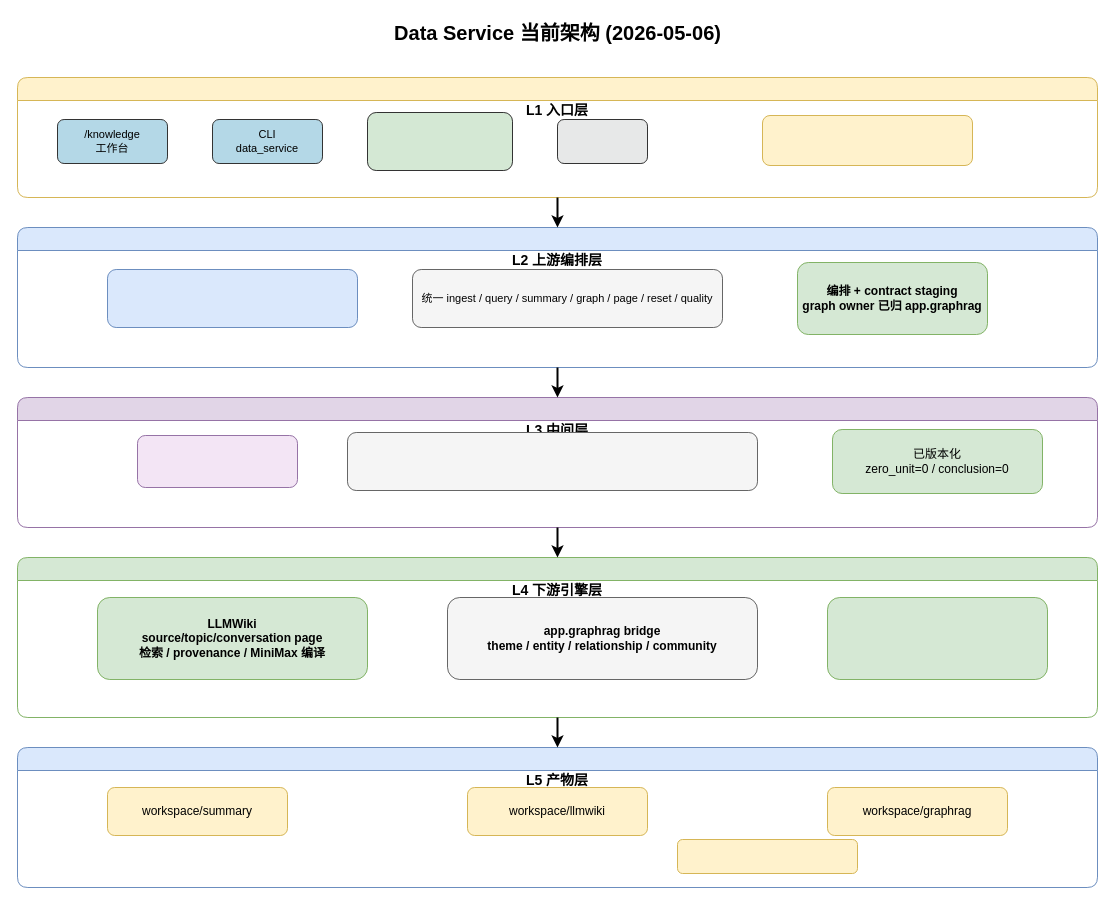
Some shapes in this 1115 by 905 pixel diagram are drawn without their labels. Here are the shapes that lost their labels. From the top down, the centre of each, then its label:
At pixel 439 141: "HTTP API /api/v1/knowledge/*".
At pixel 602 141: "MCP stdio lifecycle + v2".
At pixel 867 140: "用户 / Agent 只写一次数据".
At pixel 232 298: "backend/data_service".
At pixel 217 461: "distill".
At pixel 552 461: "schema v1.1 / manifest / source profile / units / provenance / title fallback".
At pixel 937 638: "runner / query model / materializer 已收口到 app.graphrag.service".
At pixel 767 856: "workspace/quality".
